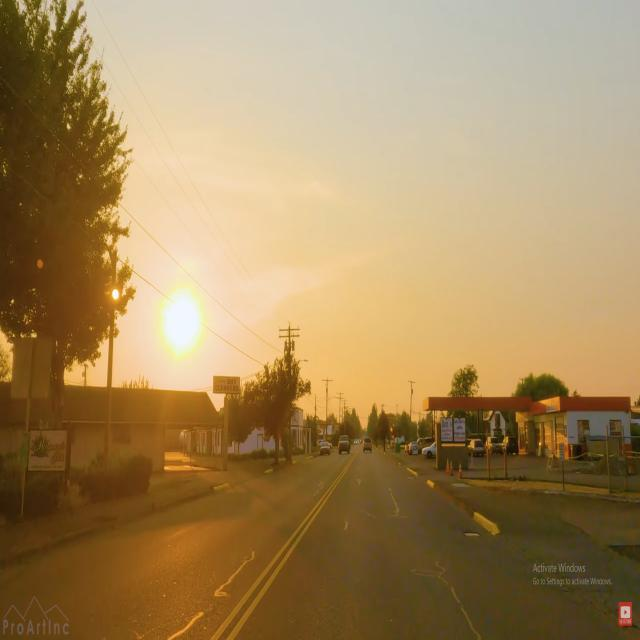sun: (148, 270, 218, 368)
